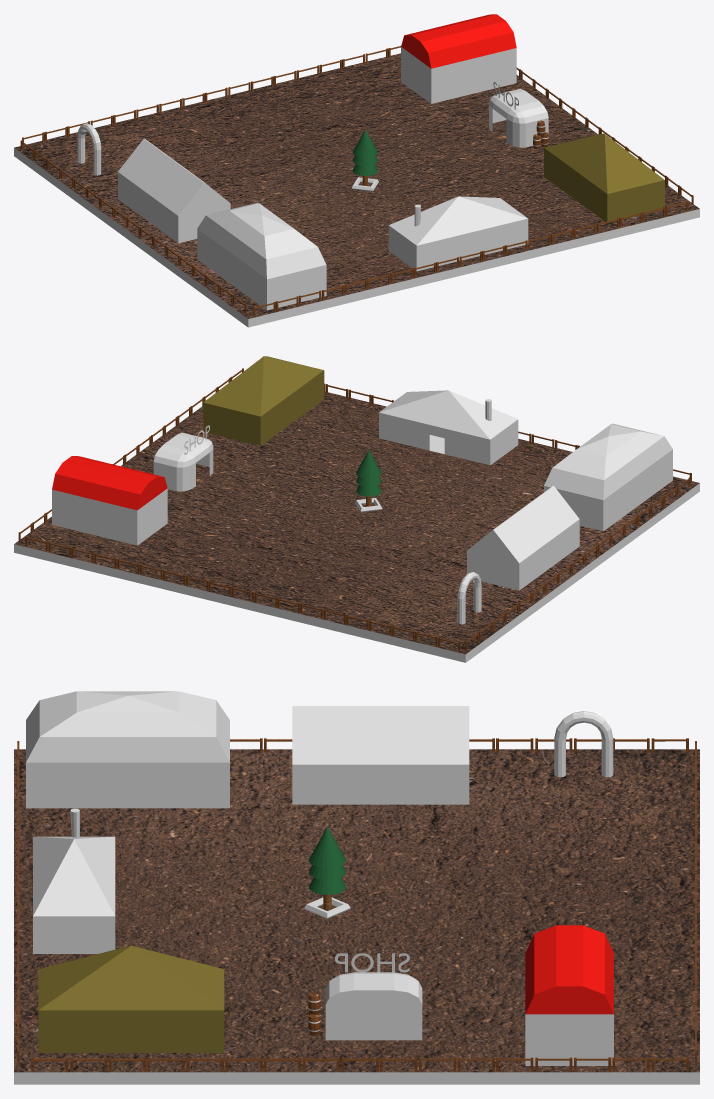
File: Village.fbx
3 renders of one model, top to bottom at view 1: azimuth 30°, elevation 25°; view 2: azimuth 150°, elevation 25°; view 3: azimuth 270°, elevation 25°, orthographic. The views are drawn at different scales.
Parts seen in each view (by area): view 1: floor, house bottom left, House Top rigth, Quest House, house bottom rigth, House rigth, barierre, Shop, Tree, Arche; view 2: floor, house bottom left, House Top rigth, Quest House, house bottom rigth, House rigth, barierre, Shop, Tree, Arche; view 3: floor, house bottom left, house bottom rigth, House rigth, House Top rigth, Quest House, Shop, barierre, Tree, Arche, Shop sign.
Boxes of the visible parts, box(x1,y1,x2,y2) form: floor: box(14, 53, 699, 327); house bottom left: box(197, 202, 326, 310); House Top rigth: box(401, 14, 516, 103); Quest House: box(388, 196, 528, 271); house bottom rigth: box(544, 133, 664, 223); House rigth: box(118, 138, 230, 243); barierre: box(20, 46, 693, 316); Shop: box(489, 88, 548, 147); Tree: box(352, 129, 377, 186); Arche: box(77, 123, 101, 175); floor: box(14, 392, 699, 662); house bottom left: box(544, 423, 672, 531); House Top rigth: box(52, 456, 167, 545); Quest House: box(379, 390, 518, 465); house bottom rigth: box(203, 356, 324, 445); House rigth: box(467, 485, 579, 590); barierre: box(18, 368, 691, 651); Shop: box(153, 432, 213, 491); Tree: box(356, 450, 381, 506); Arche: box(457, 572, 481, 624); floor: box(14, 749, 699, 1084); house bottom left: box(26, 691, 229, 808); house bottom rigth: box(38, 945, 224, 1052); House rigth: box(292, 706, 469, 804); House Top rigth: box(525, 925, 613, 1065); Quest House: box(33, 808, 115, 953); Shop: box(325, 972, 422, 1040); barierre: box(17, 738, 696, 1071); Tree: box(309, 827, 345, 910); Arche: box(554, 711, 613, 777); Shop sign: box(335, 953, 409, 972).
Bounding box in the file's own units: 4100 × 613 × 3682.
